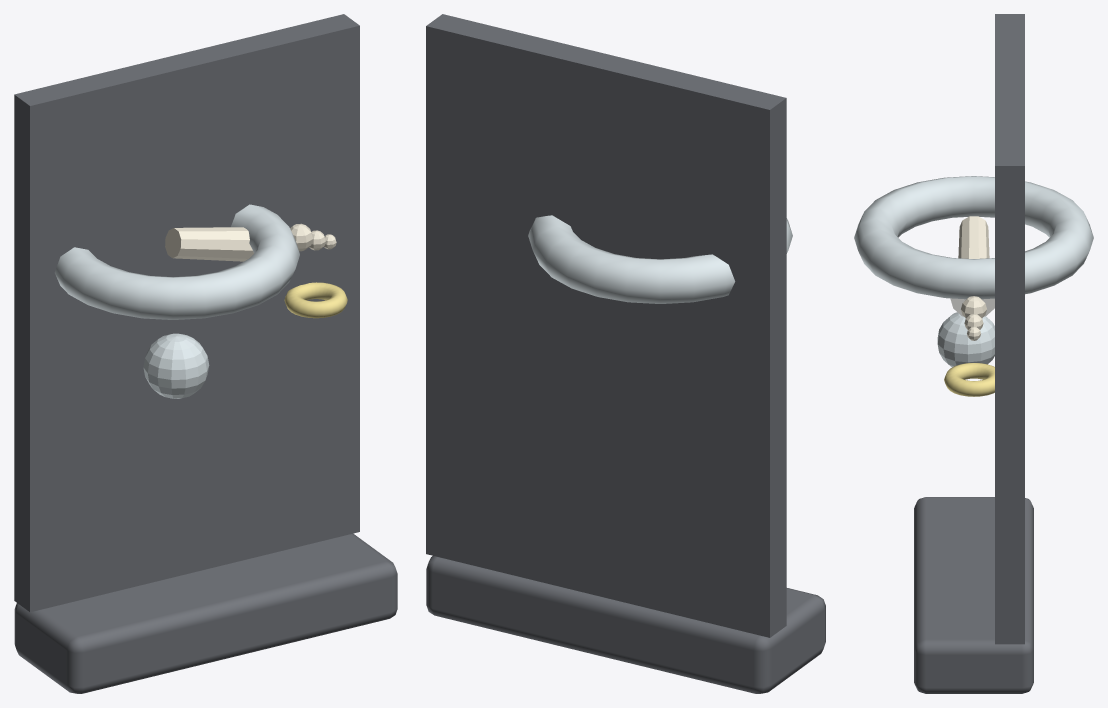
File: ear.glb
3 renders of one model, left to right at view 1: azimuth 30°, elevation 25°; view 2: azimuth 150°, elevation 25°; view 3: azimuth 270°, elevation 25°, orthographic. The views are drawn at different scales.
Parts seen in each view (by area): view 1: ear-model; view 2: ear-model; view 3: ear-model.
Part boxes in pixels (box(x1,y1,x2,y2)): ear-model: box(14, 14, 397, 693); ear-model: box(426, 14, 825, 693); ear-model: box(854, 14, 1093, 693).
Size of the model in its own units: 0.3 by 0.49 by 0.2.
